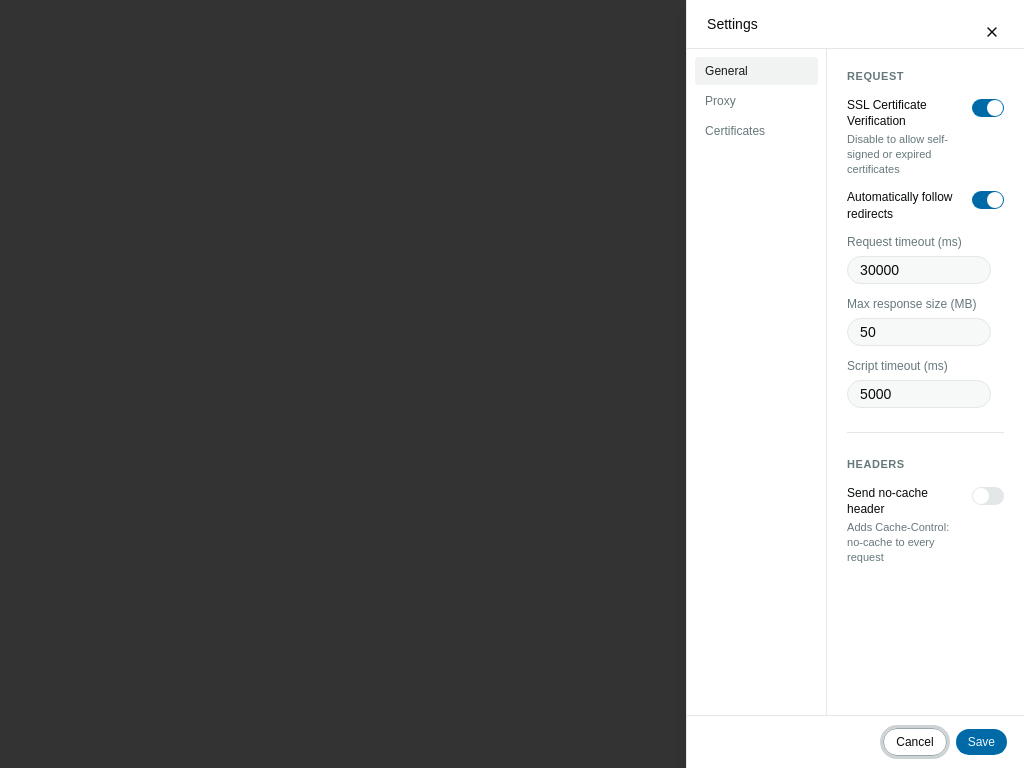
section navigation › shows the Proxy section when Proxy nav item is clicked
Click the button "Proxy".
click(757, 101)  # box [695,87,818,115]
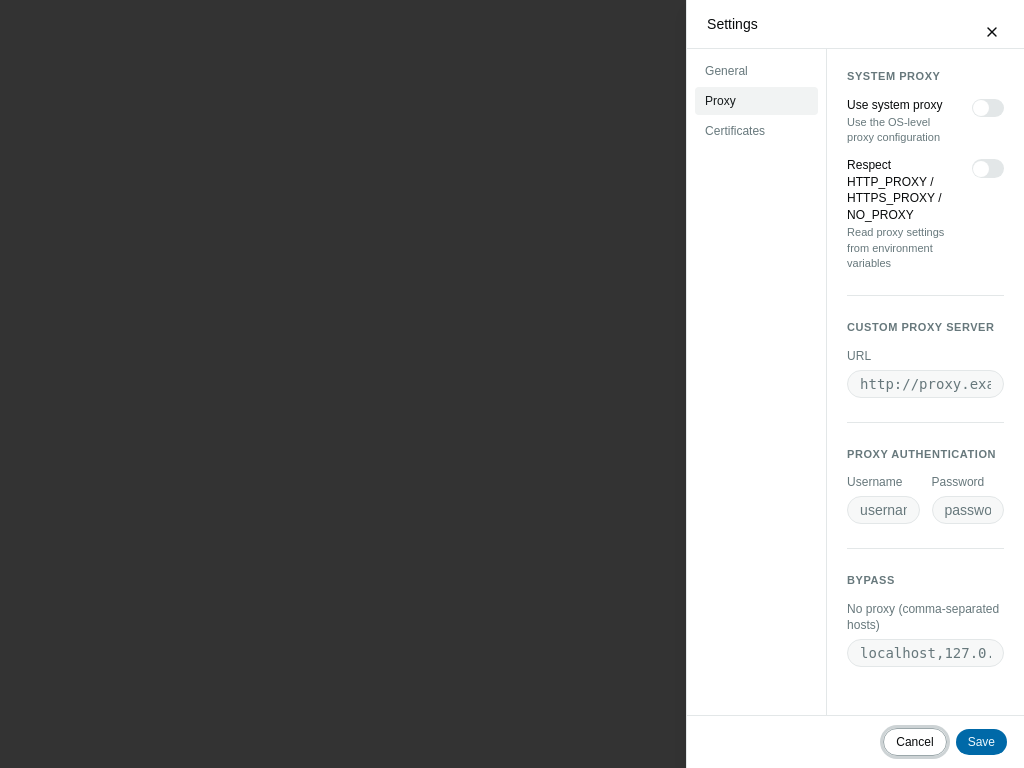
Expected: the field with placeholder "http://proxy.example.com:3128" is shown, [847,370,1004,398]
